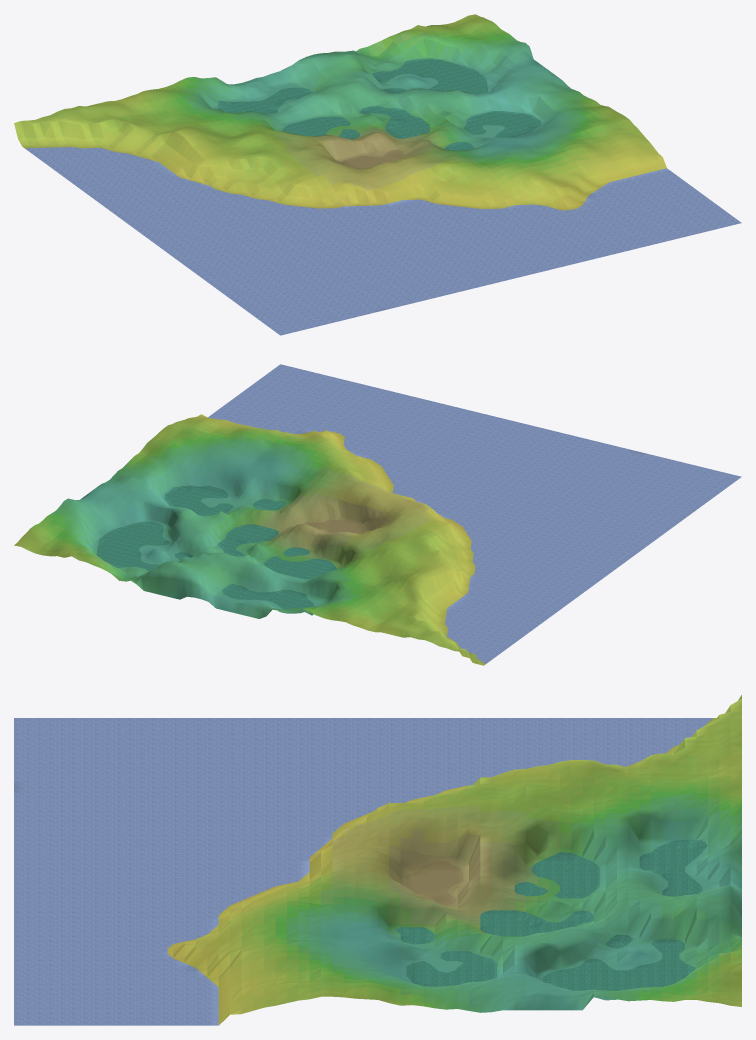
3 renders of one model, top to bottom at view 1: azimuth 30°, elevation 25°; view 2: azimuth 150°, elevation 25°; view 3: azimuth 270°, elevation 25°, orthographic. The views are drawn at different scales.
Visible parts, largest first — view 1: model; view 2: model; view 3: model.
Part boxes in pixels (<box>): model: <box>14,14,741,335</box>; model: <box>14,364,741,665</box>; model: <box>14,695,741,1025</box>.
Size of the model in its own units: 64 by 3.19 by 64.
Materials: 3 (2 with a texture image).
